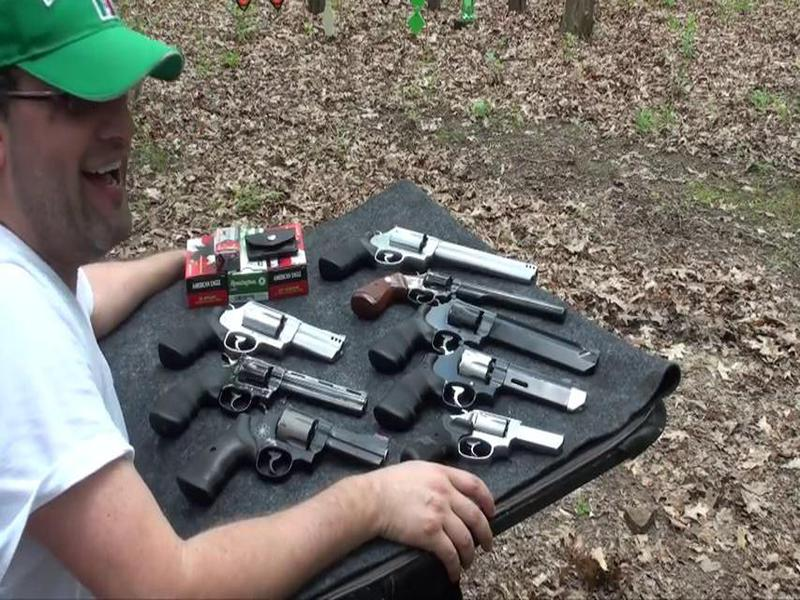Revolver: (168, 397, 415, 507)
